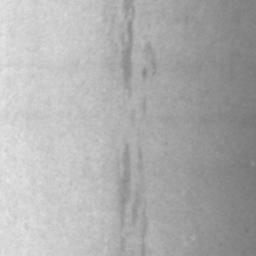Inclusion: (118, 145, 132, 225), (120, 22, 134, 84)
